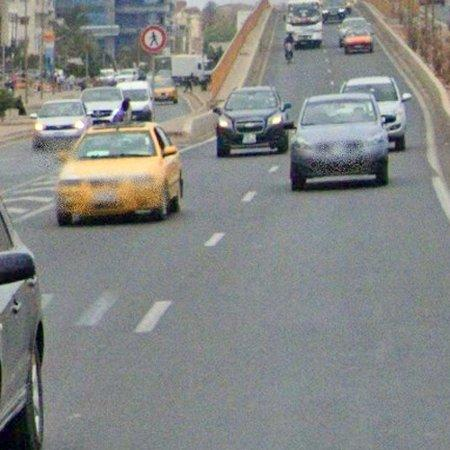taxis: (56, 123, 183, 226)
